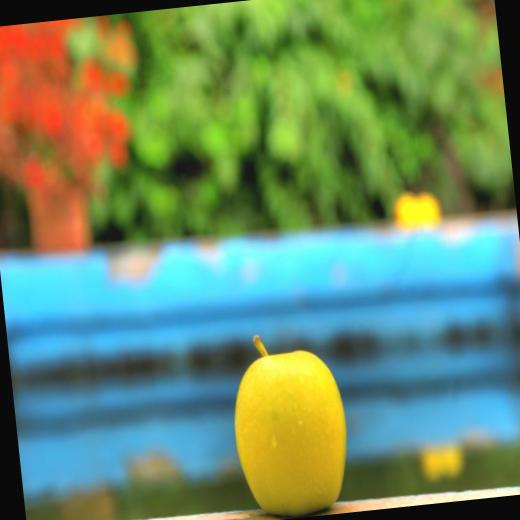Apple: (226, 325, 354, 520)
